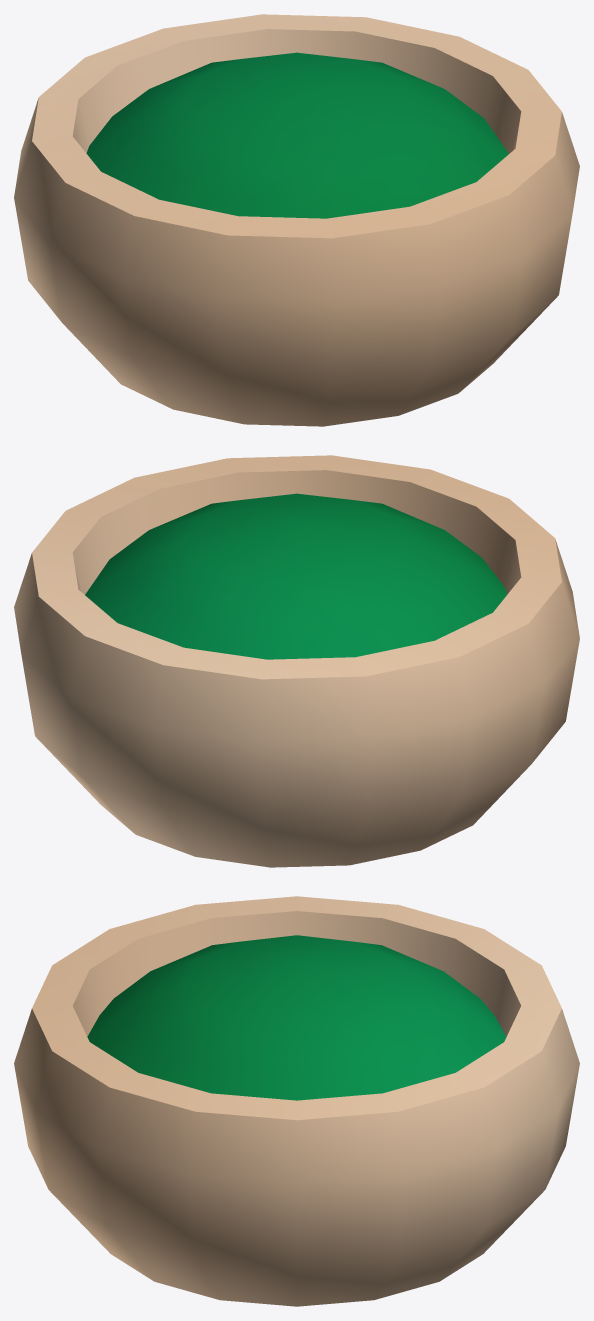
Rendered from Plant_Pot_2.fbx.
3 views of the same model, one above another, from view 1: azimuth 30°, elevation 25°; view 2: azimuth 150°, elevation 25°; view 3: azimuth 270°, elevation 25° (orthographic).
Visible parts, largest first — view 1: Plant_Pot_2C; view 2: Plant_Pot_2C; view 3: Plant_Pot_2C.
Boxes of the visible parts, x1,y1,x2,y2 form: Plant_Pot_2C: (14,14,579,426); Plant_Pot_2C: (14,455,579,867); Plant_Pot_2C: (14,896,579,1306).
Size of the model in its own units: 1648 by 821 by 1648.
